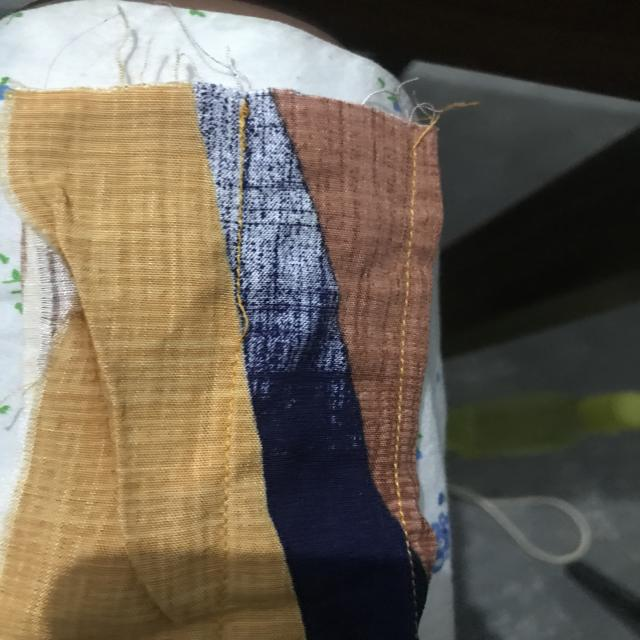good: (394, 224, 417, 331)
skip: (204, 282, 278, 359)
